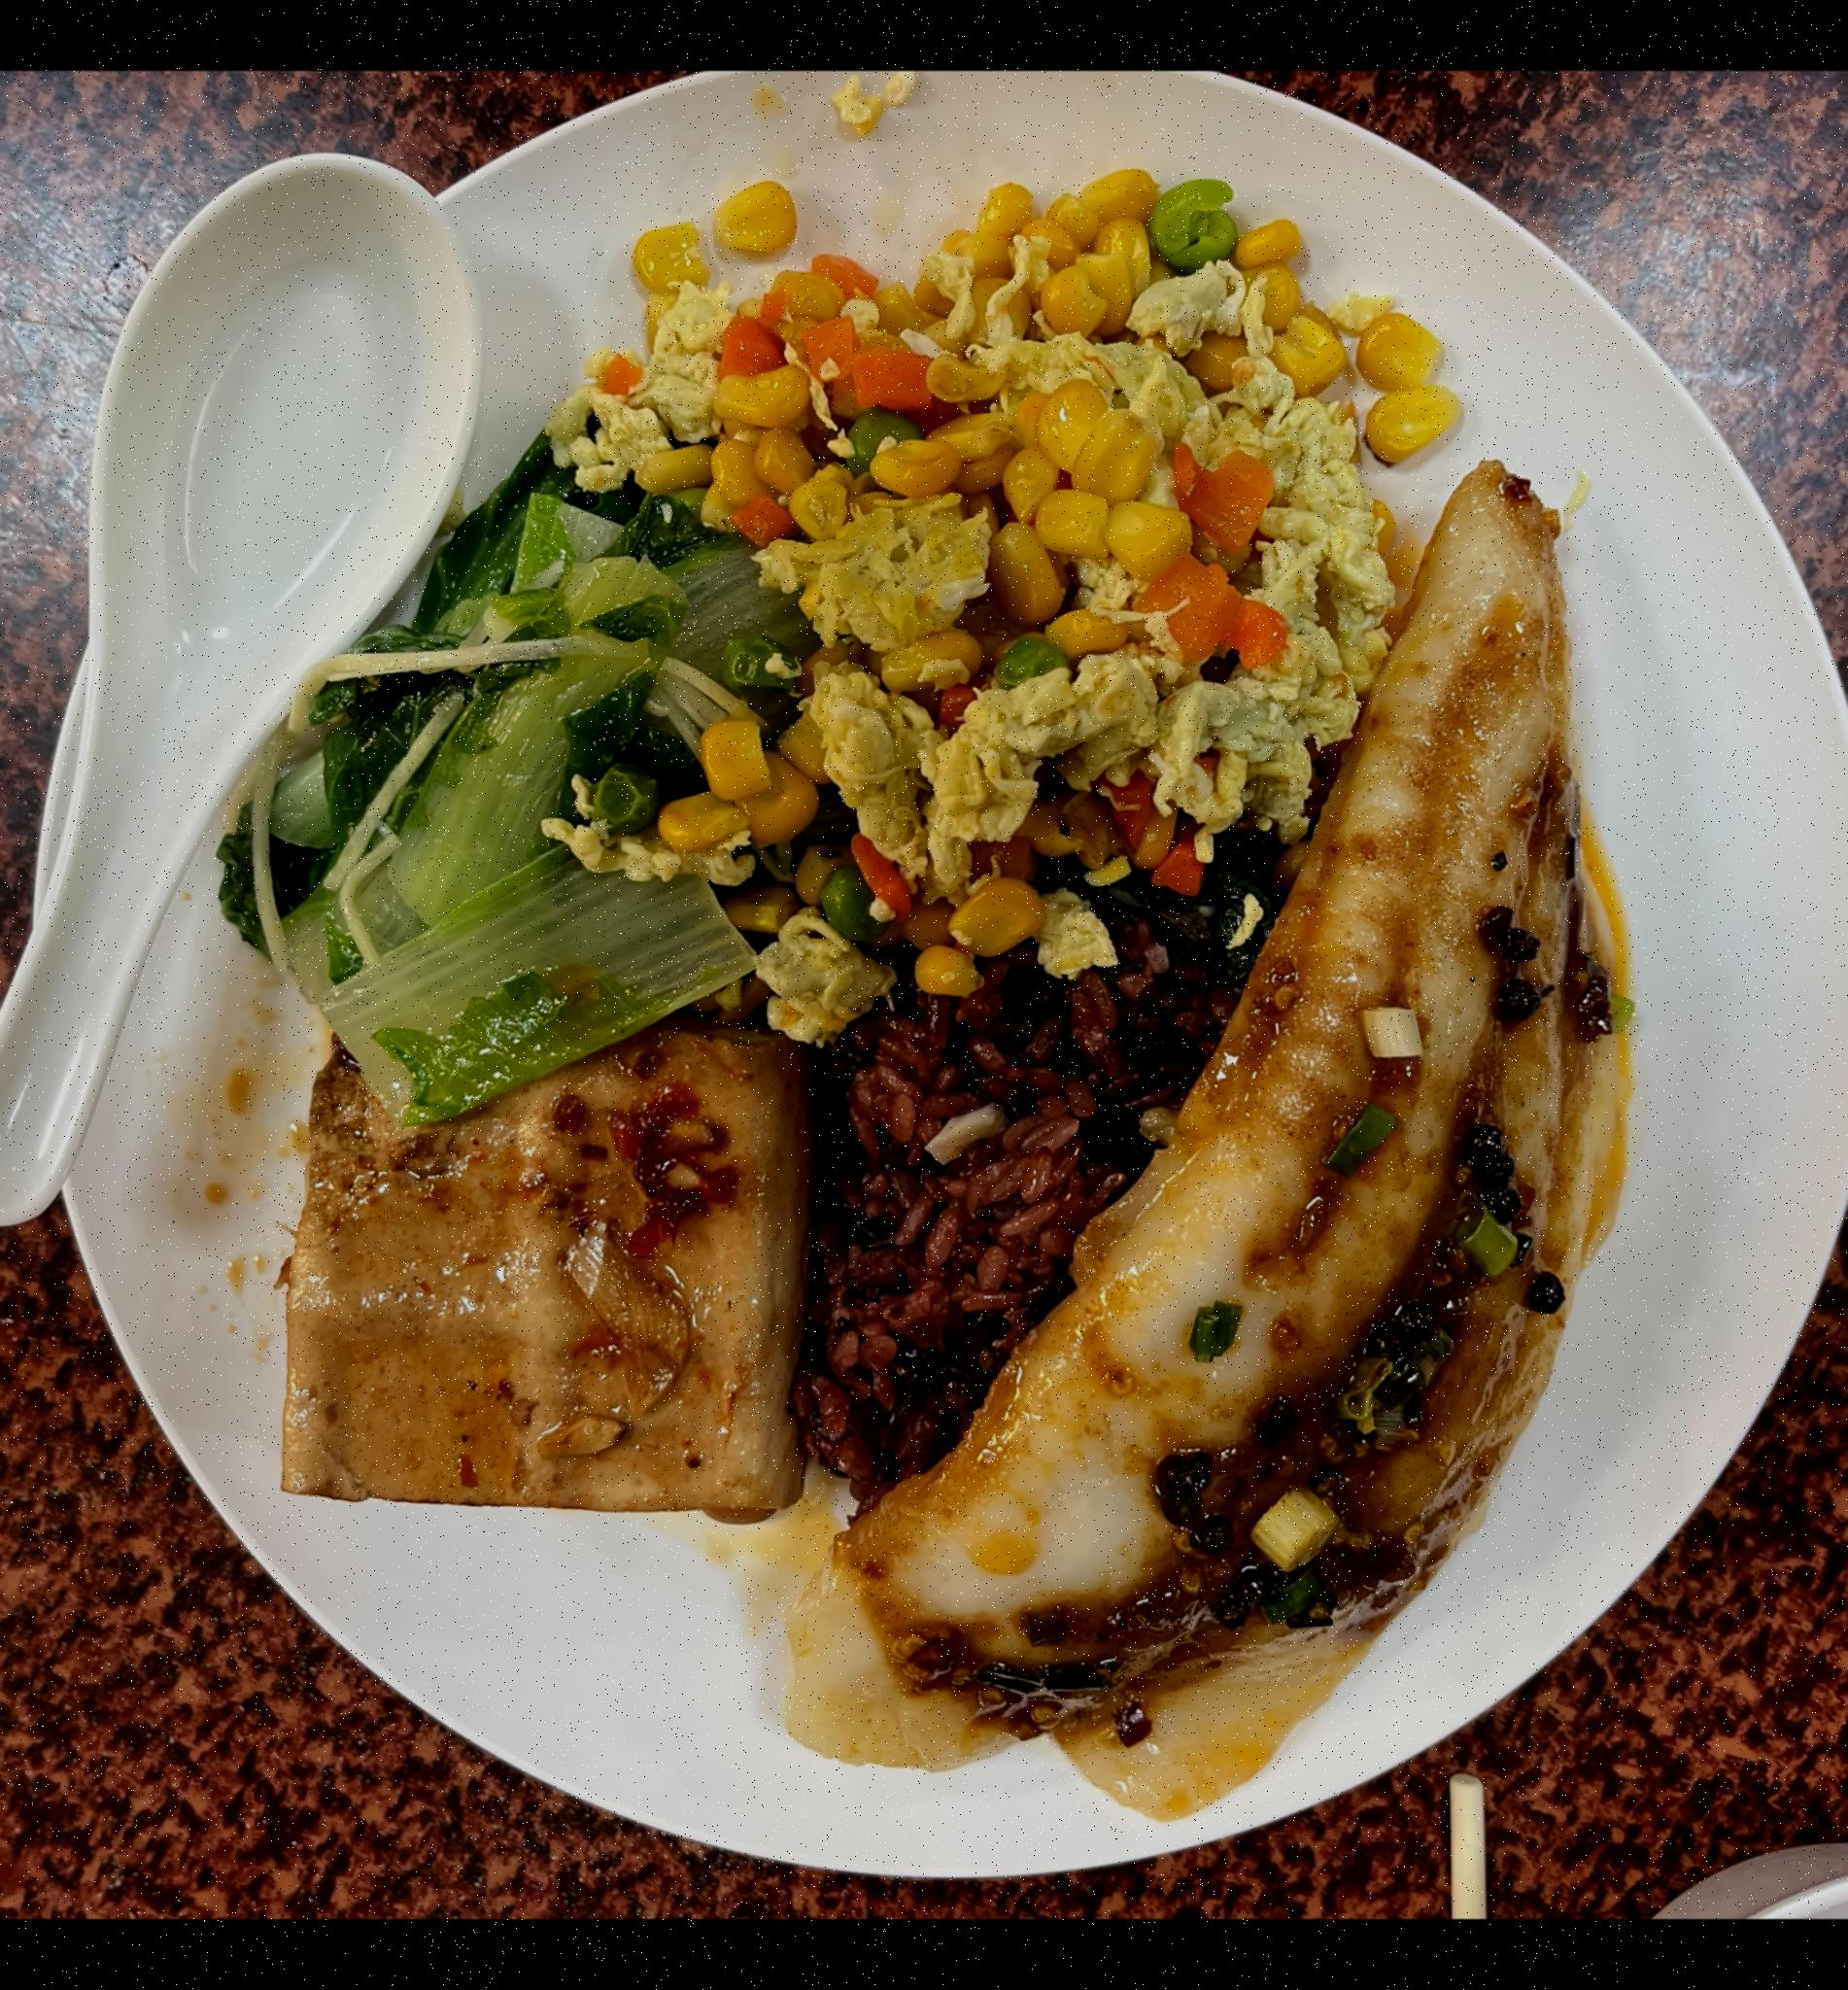braised fish fillet: (834, 493, 1680, 1839)
plate: (36, 90, 1848, 1919)
purple rice: (795, 813, 1330, 1516)
side dish: (643, 194, 1440, 924), (267, 458, 780, 1111), (243, 1000, 823, 1535)
